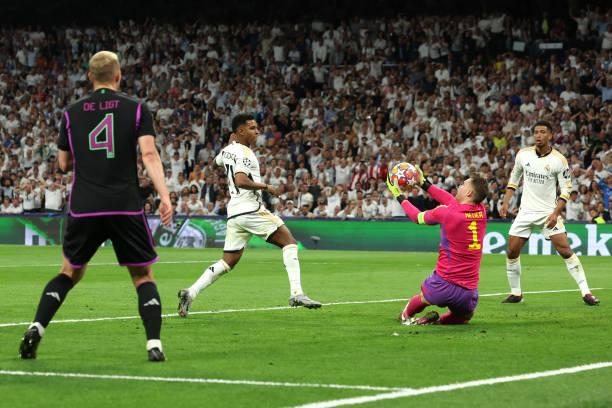Goalkeeper: (398, 175, 488, 324)
Player: (19, 51, 172, 360), (178, 115, 322, 317), (500, 121, 599, 305)
ball: (391, 163, 418, 192)
